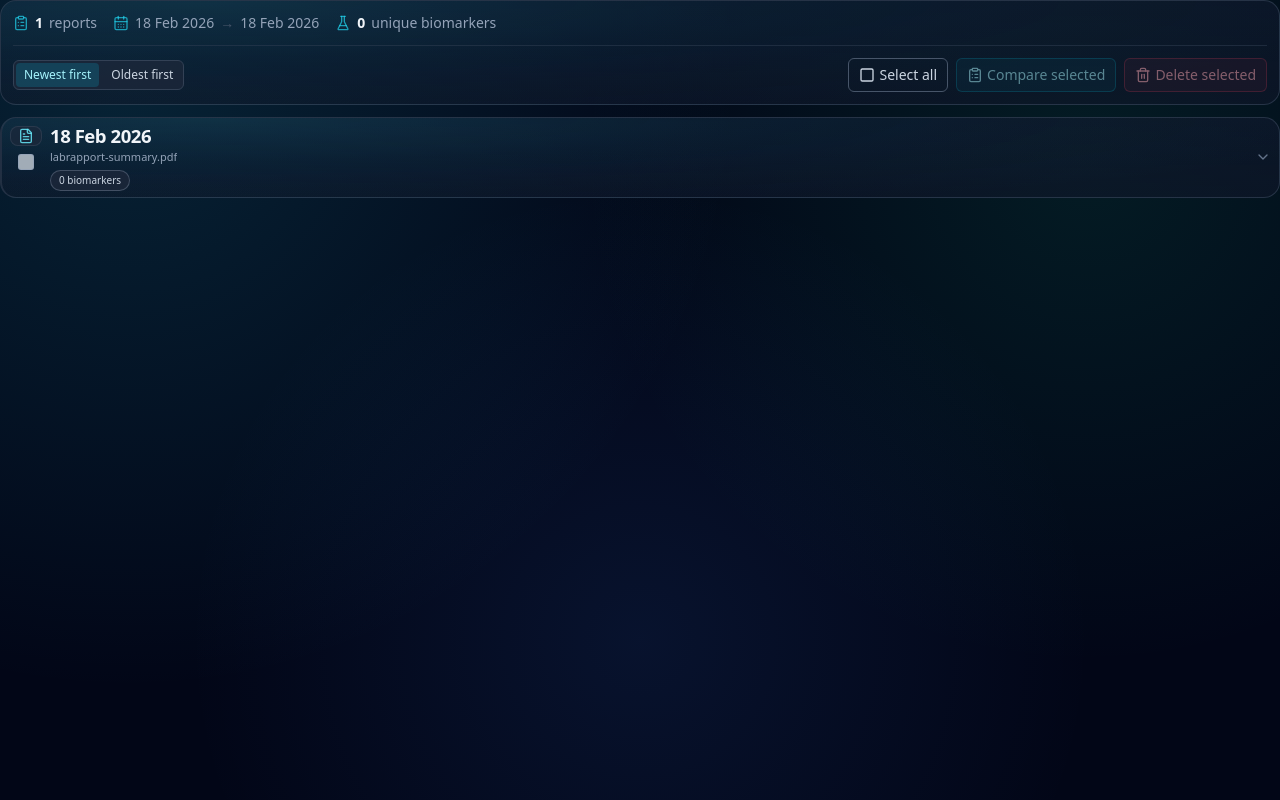
Test: ReportsView compact summary › shows unknown supplement state as compact status
The image size is (1280, 800).
Click the button with aria-label "Expand".
click(101, 136)  # box left=50, top=124, right=1271, bottom=191
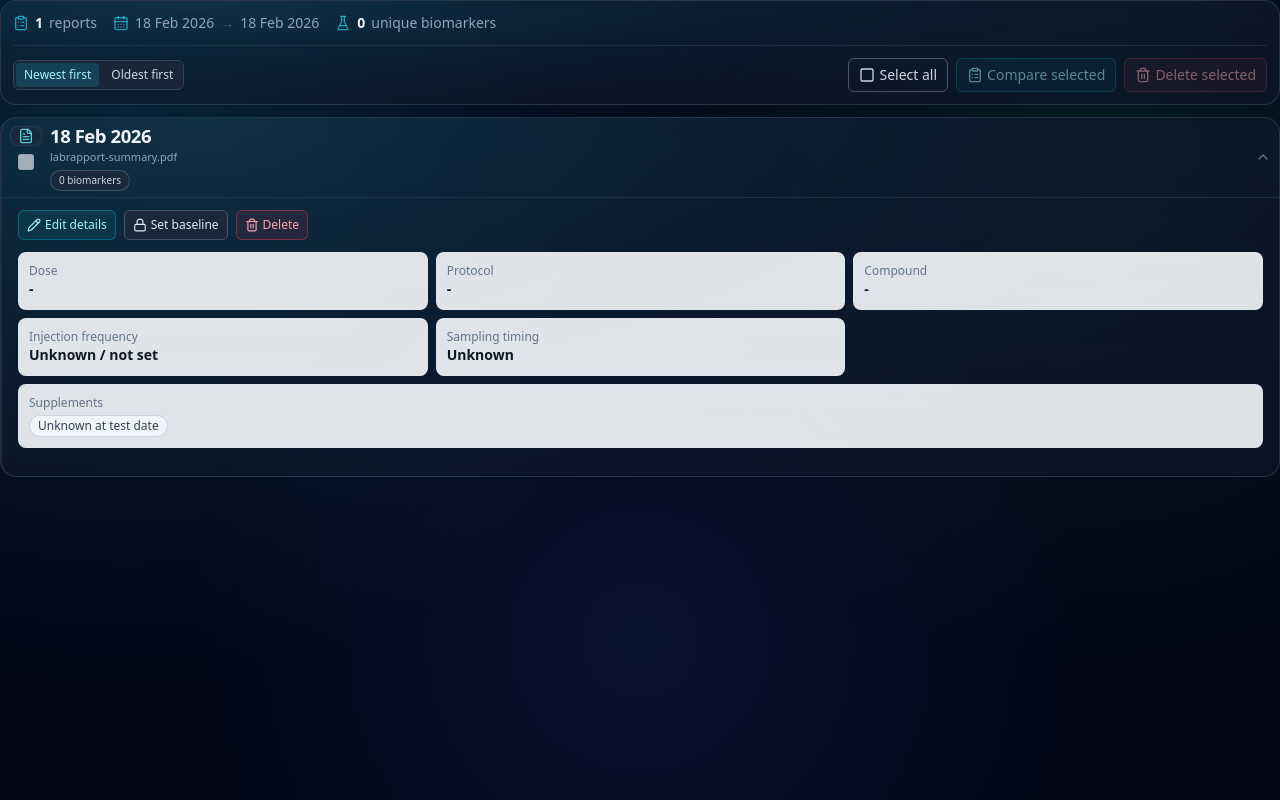
Expected: the text "Unknown at test date" is shown, left=29, top=415, right=168, bottom=437
